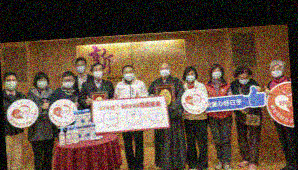with_mask: (270, 65, 284, 78), (123, 68, 135, 82), (4, 77, 17, 89), (237, 74, 251, 85), (92, 66, 103, 79), (37, 77, 48, 89), (160, 65, 171, 77), (76, 61, 86, 74), (63, 77, 74, 88), (185, 71, 196, 82), (211, 68, 222, 79)
